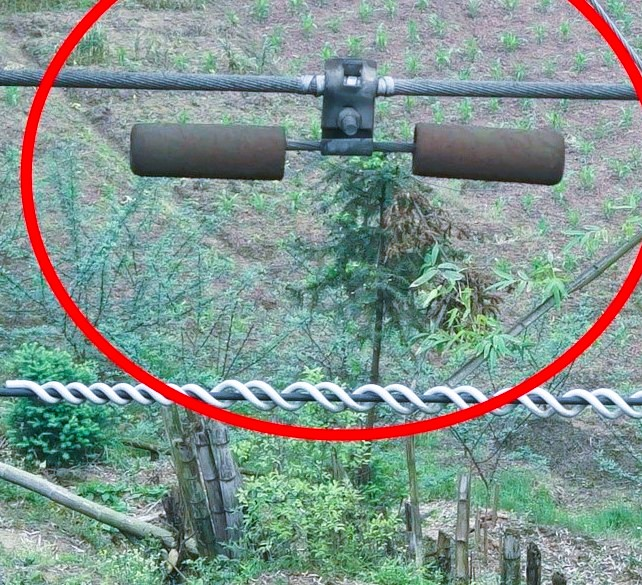Shockproof hammer: (122, 52, 575, 196)
